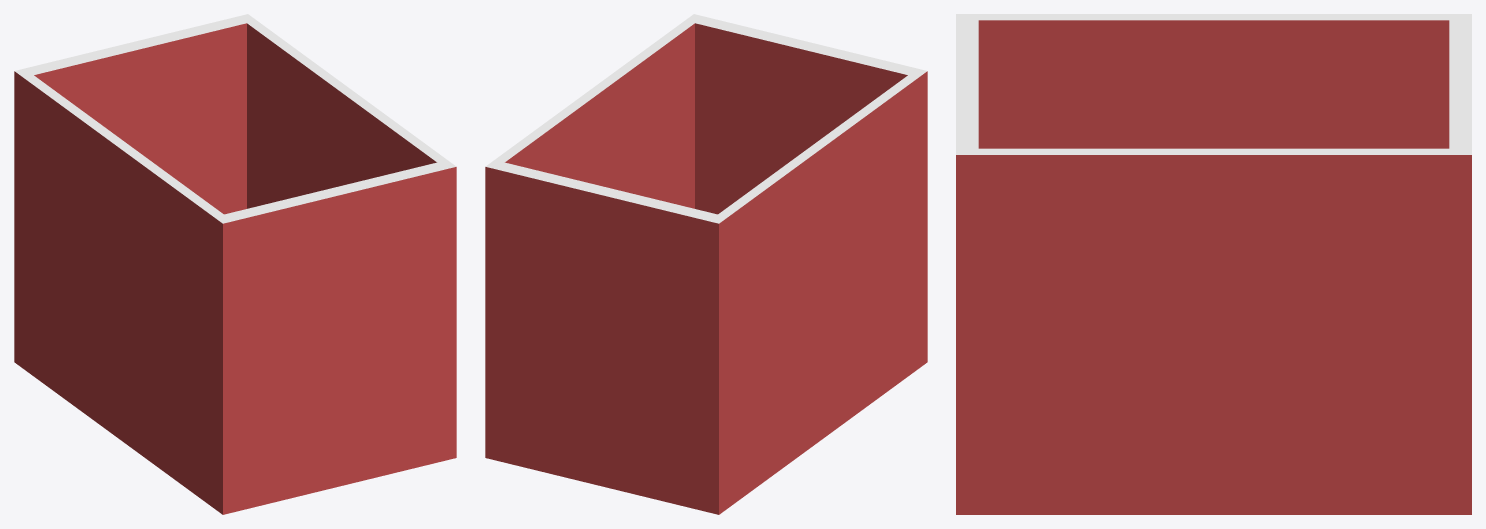
The model's file is Giftbox5-1.fbx.
3 views of the same model, side by side, from view 1: azimuth 30°, elevation 25°; view 2: azimuth 150°, elevation 25°; view 3: azimuth 270°, elevation 25° (orthographic). The views are drawn at different scales.
Parts seen in each view (by area): view 1: Box016; view 2: Box016; view 3: Box016.
Part boxes in pixels (x1=…): Box016: x1=14, y1=14, x2=456, y2=514; Box016: x1=485, y1=14, x2=927, y2=514; Box016: x1=956, y1=14, x2=1471, y2=514.
Size of the model in its own units: 12.94 by 15.4 by 20.
